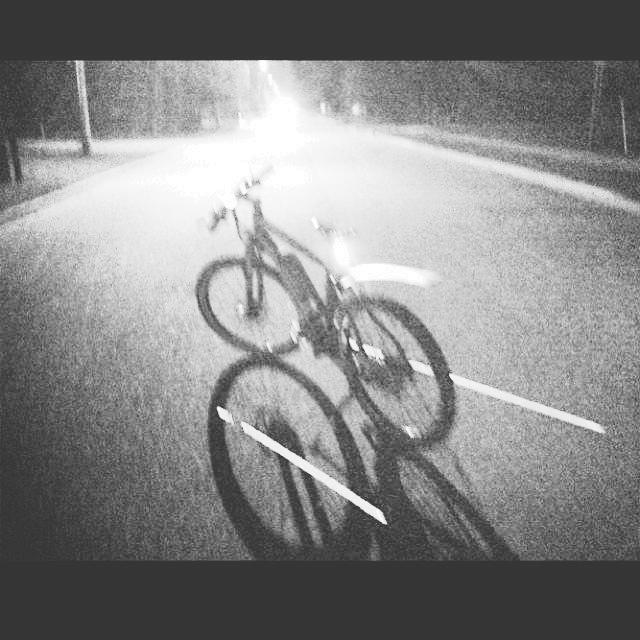Bicycle: (196, 165, 455, 447)
